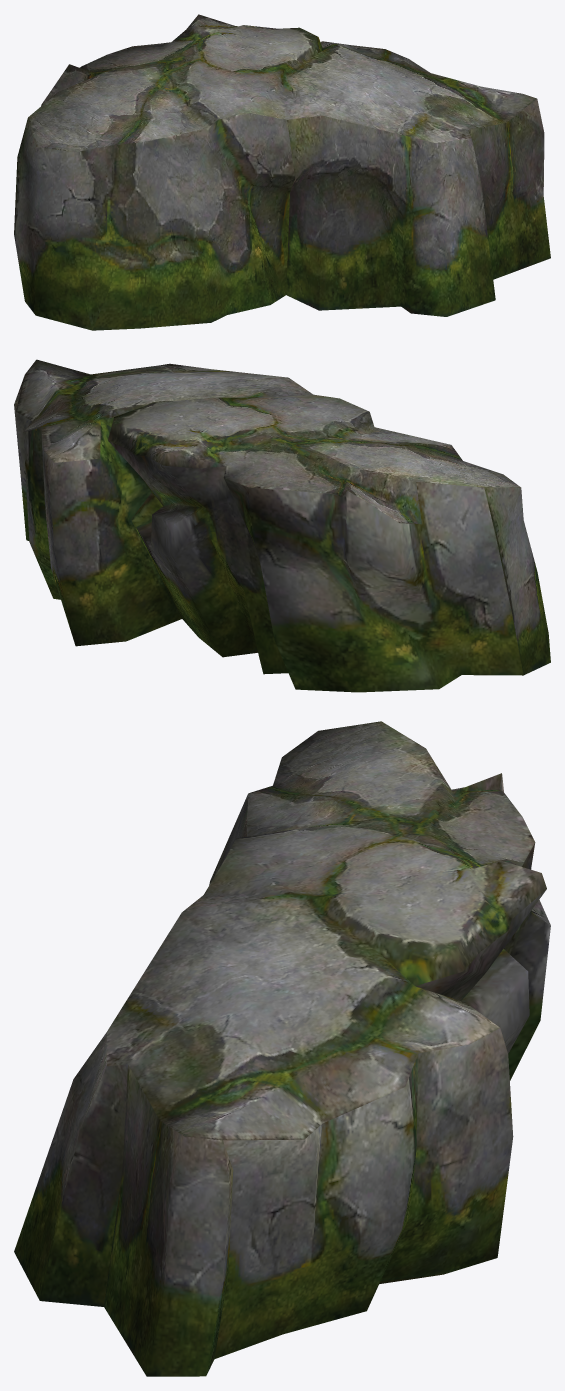
The model's file is THL2_1.fbx.
The picture shows the model from 3 angles, top to bottom: view 1: azimuth 30°, elevation 25°; view 2: azimuth 150°, elevation 25°; view 3: azimuth 270°, elevation 25°; orthographic projection. The views are drawn at different scales.
Visible parts, largest first — view 1: taohualin:_Combined_Mesh_root_scene__Mesh_polySurface3365; view 2: taohualin:_Combined_Mesh_root_scene__Mesh_polySurface3365; view 3: taohualin:_Combined_Mesh_root_scene__Mesh_polySurface3365.
Boxes of the visible parts, left/top/right/bottom form: taohualin:_Combined_Mesh_root_scene__Mesh_polySurface3365: left=14, top=14, right=550, bottom=330; taohualin:_Combined_Mesh_root_scene__Mesh_polySurface3365: left=14, top=359, right=550, bottom=692; taohualin:_Combined_Mesh_root_scene__Mesh_polySurface3365: left=14, top=721, right=550, bottom=1376.
Size of the model in its own units: 13.97 by 5.85 by 8.62.
